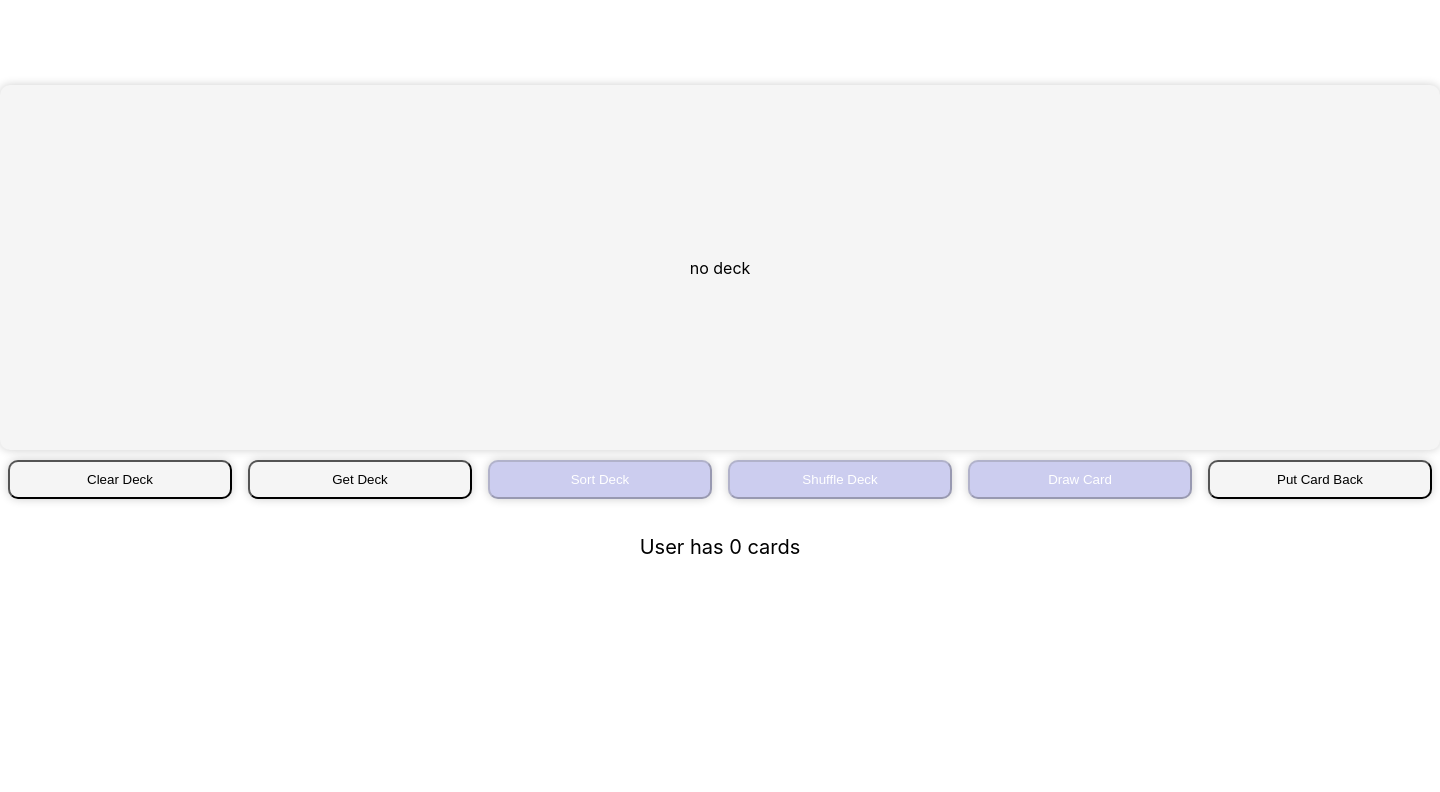
it: will correctly allow the user to move cards between the deck and their hand
The width and height of the screenshot is (1440, 792).
What coordinates should you click on to do the following:
click the button "Get Deck"
I would click on:
 (360, 480)
Its box is [248,460,472,499].
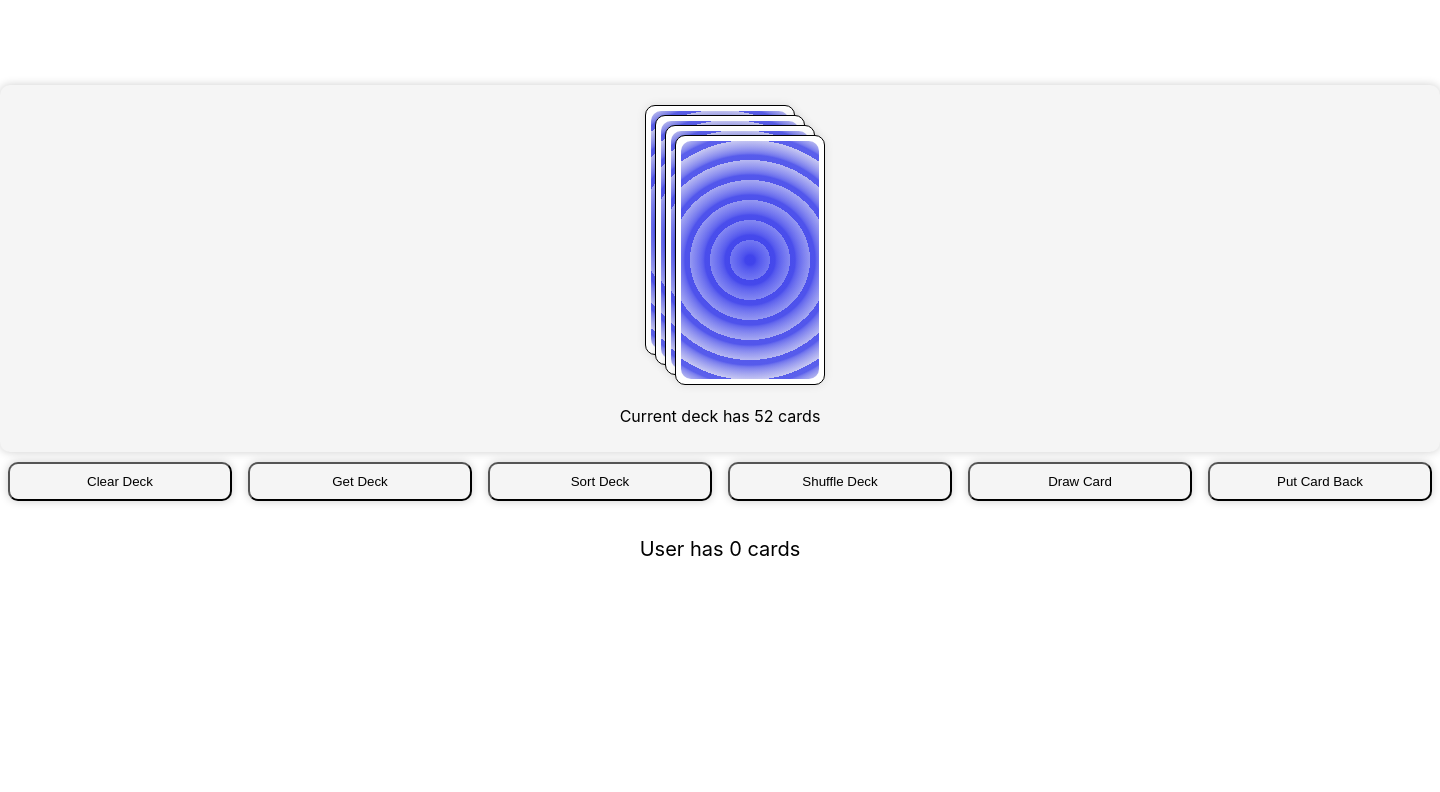
Expected: the text "User has 0 cards" is shown, [640,537,800,561]
What coordinates should you click on to do the following:
click the button "Shuffle Deck"
I would click on:
 (840, 482)
Its box is [728,462,952,501].
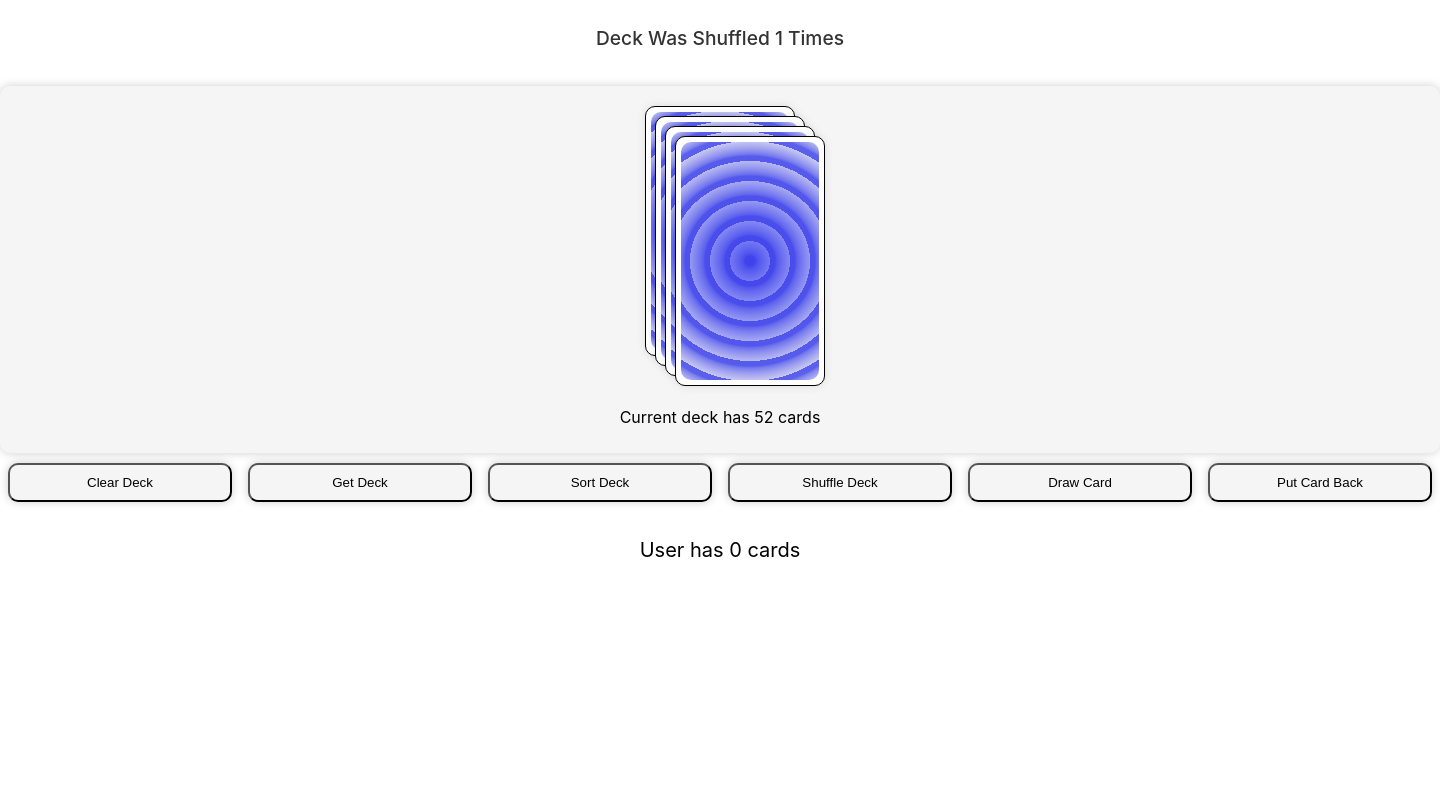
Now the heading "deck was shuffled 1 times" is shown, box [596,26,844,50]
What coordinates should you click on to do the following:
click the button "Draw Card"
I would click on:
 (1080, 482)
Its box is [968,463,1192,502].
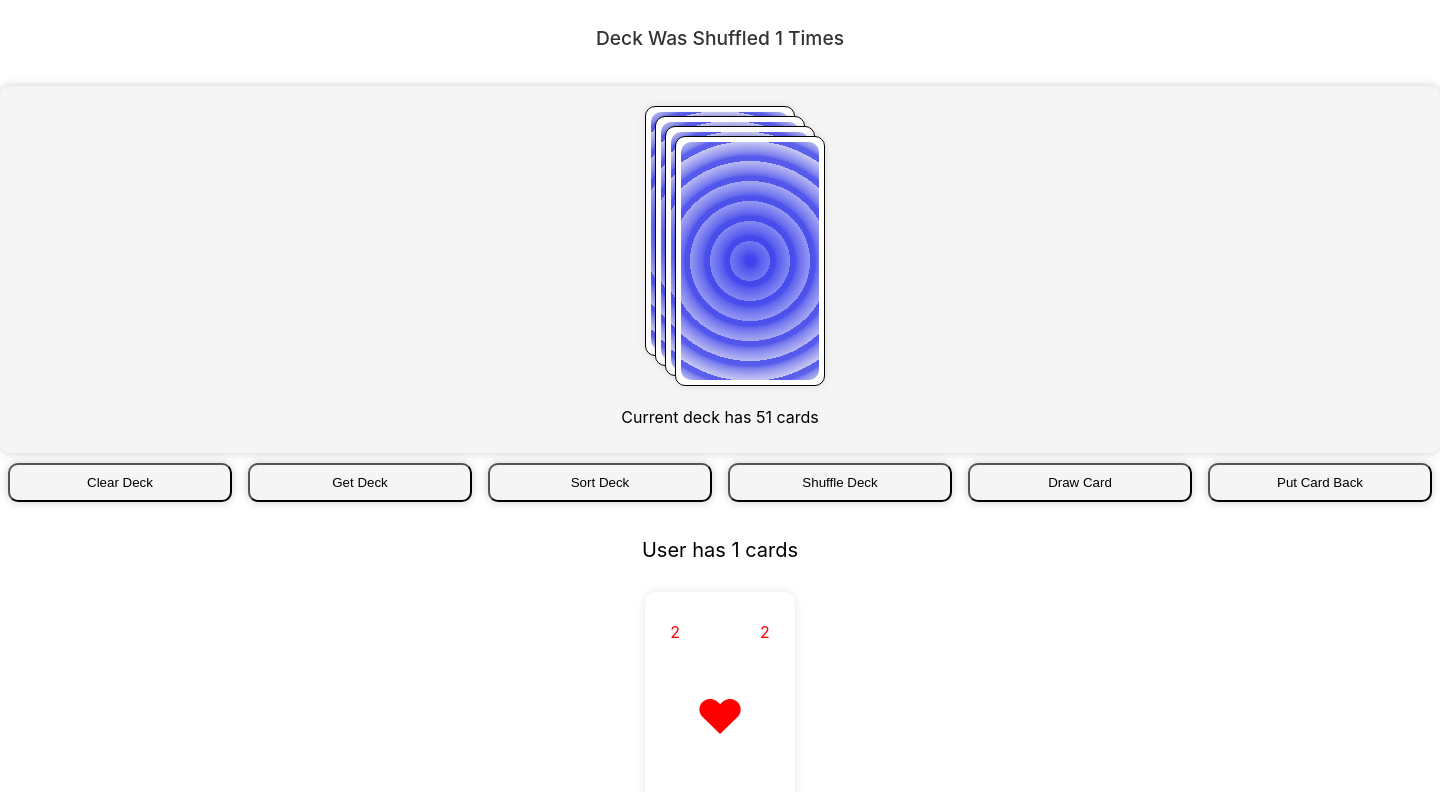
Now the text "User has 1 cards" is shown, box [642,538,798,562]
What coordinates should you click on to do the following:
click the button "Put Card Back"
I would click on:
 (1320, 482)
Its box is [1208,463,1432,502].
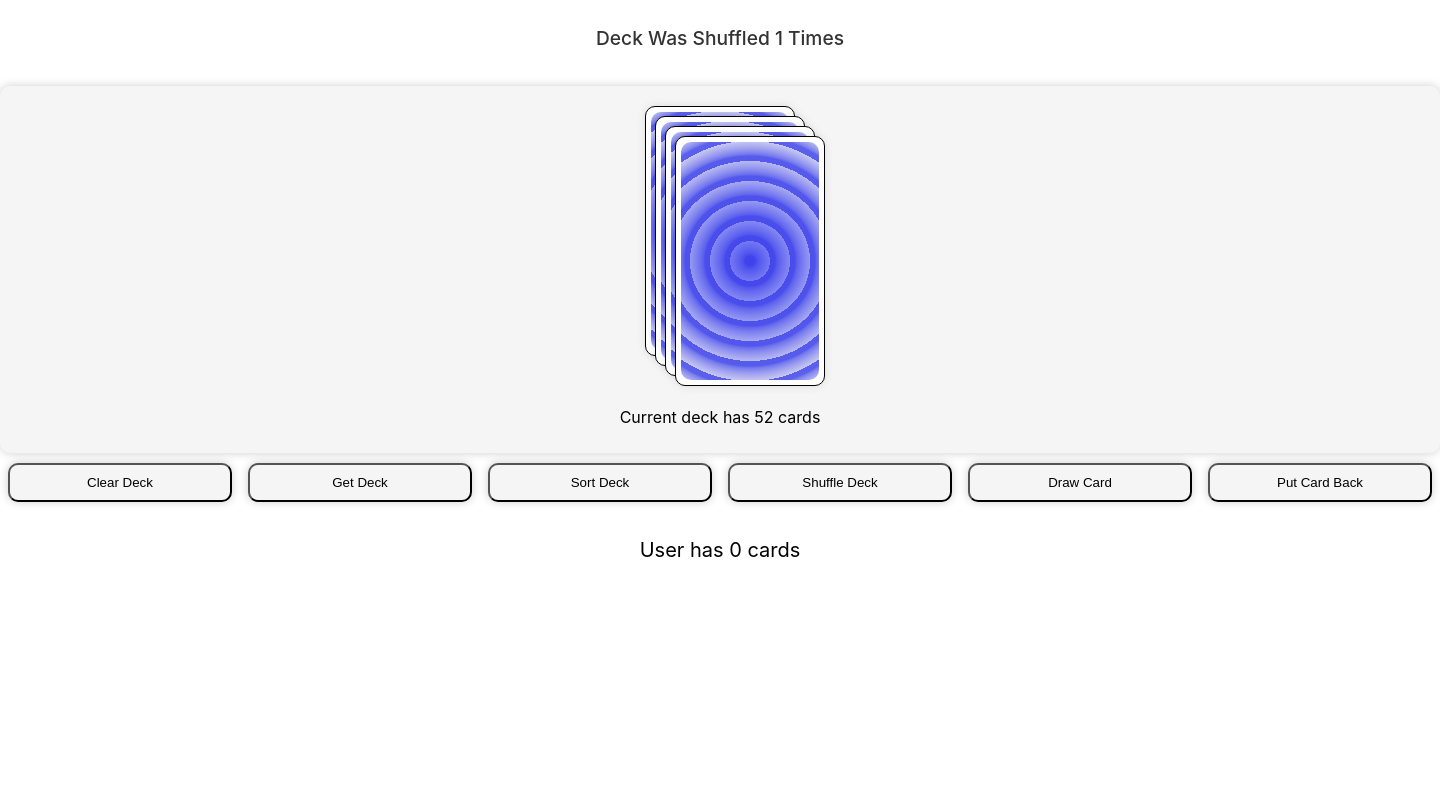
Now the text "User has 0 cards" is shown, box [640,538,800,562]
What coordinates should you click on to do the following:
click the button "Clear Deck"
I would click on:
 (120, 482)
Its box is [8,463,232,502].
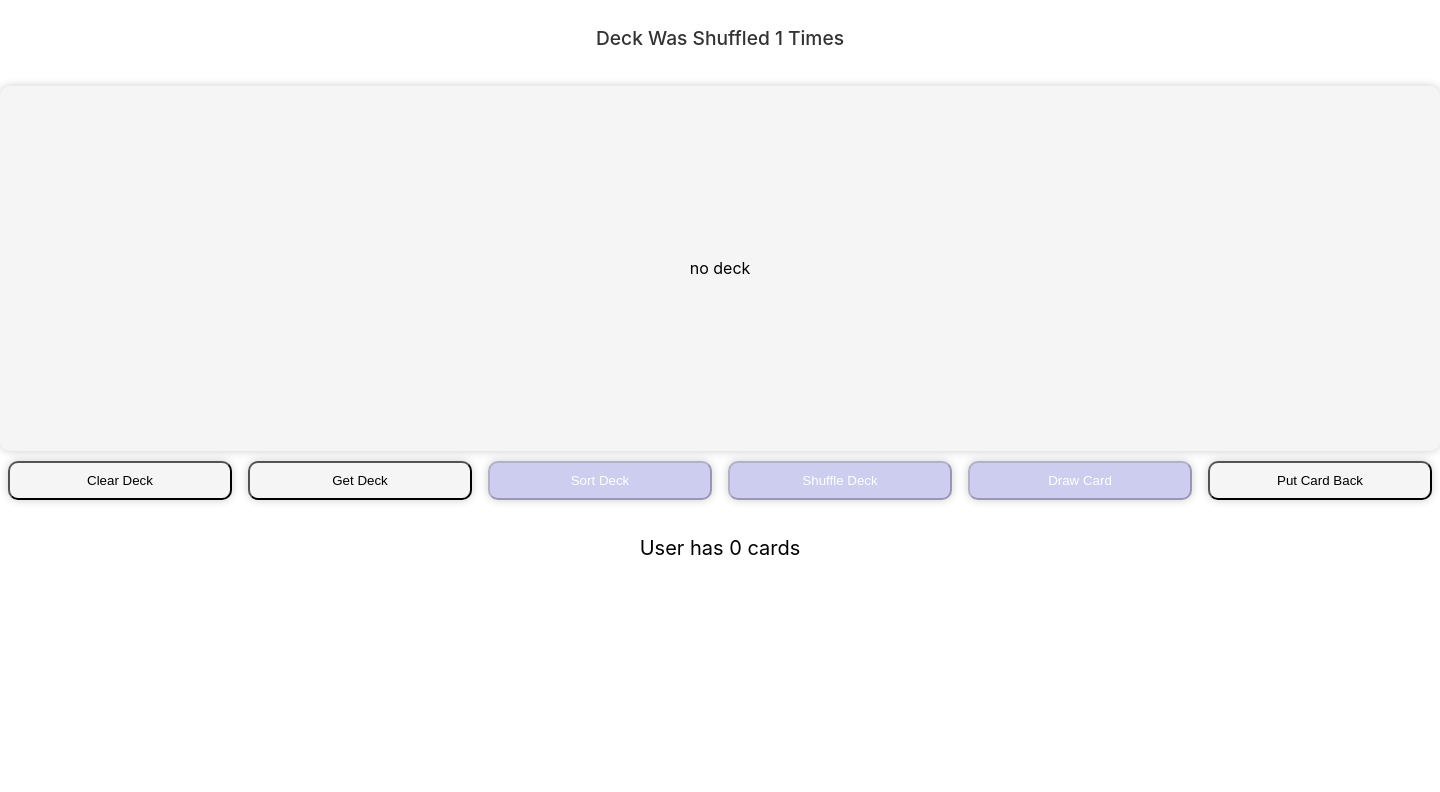
Now the text "User has 0 cards" is shown, box [640,536,800,560]
Now the text "no deck" is shown, box [690,258,750,278]
